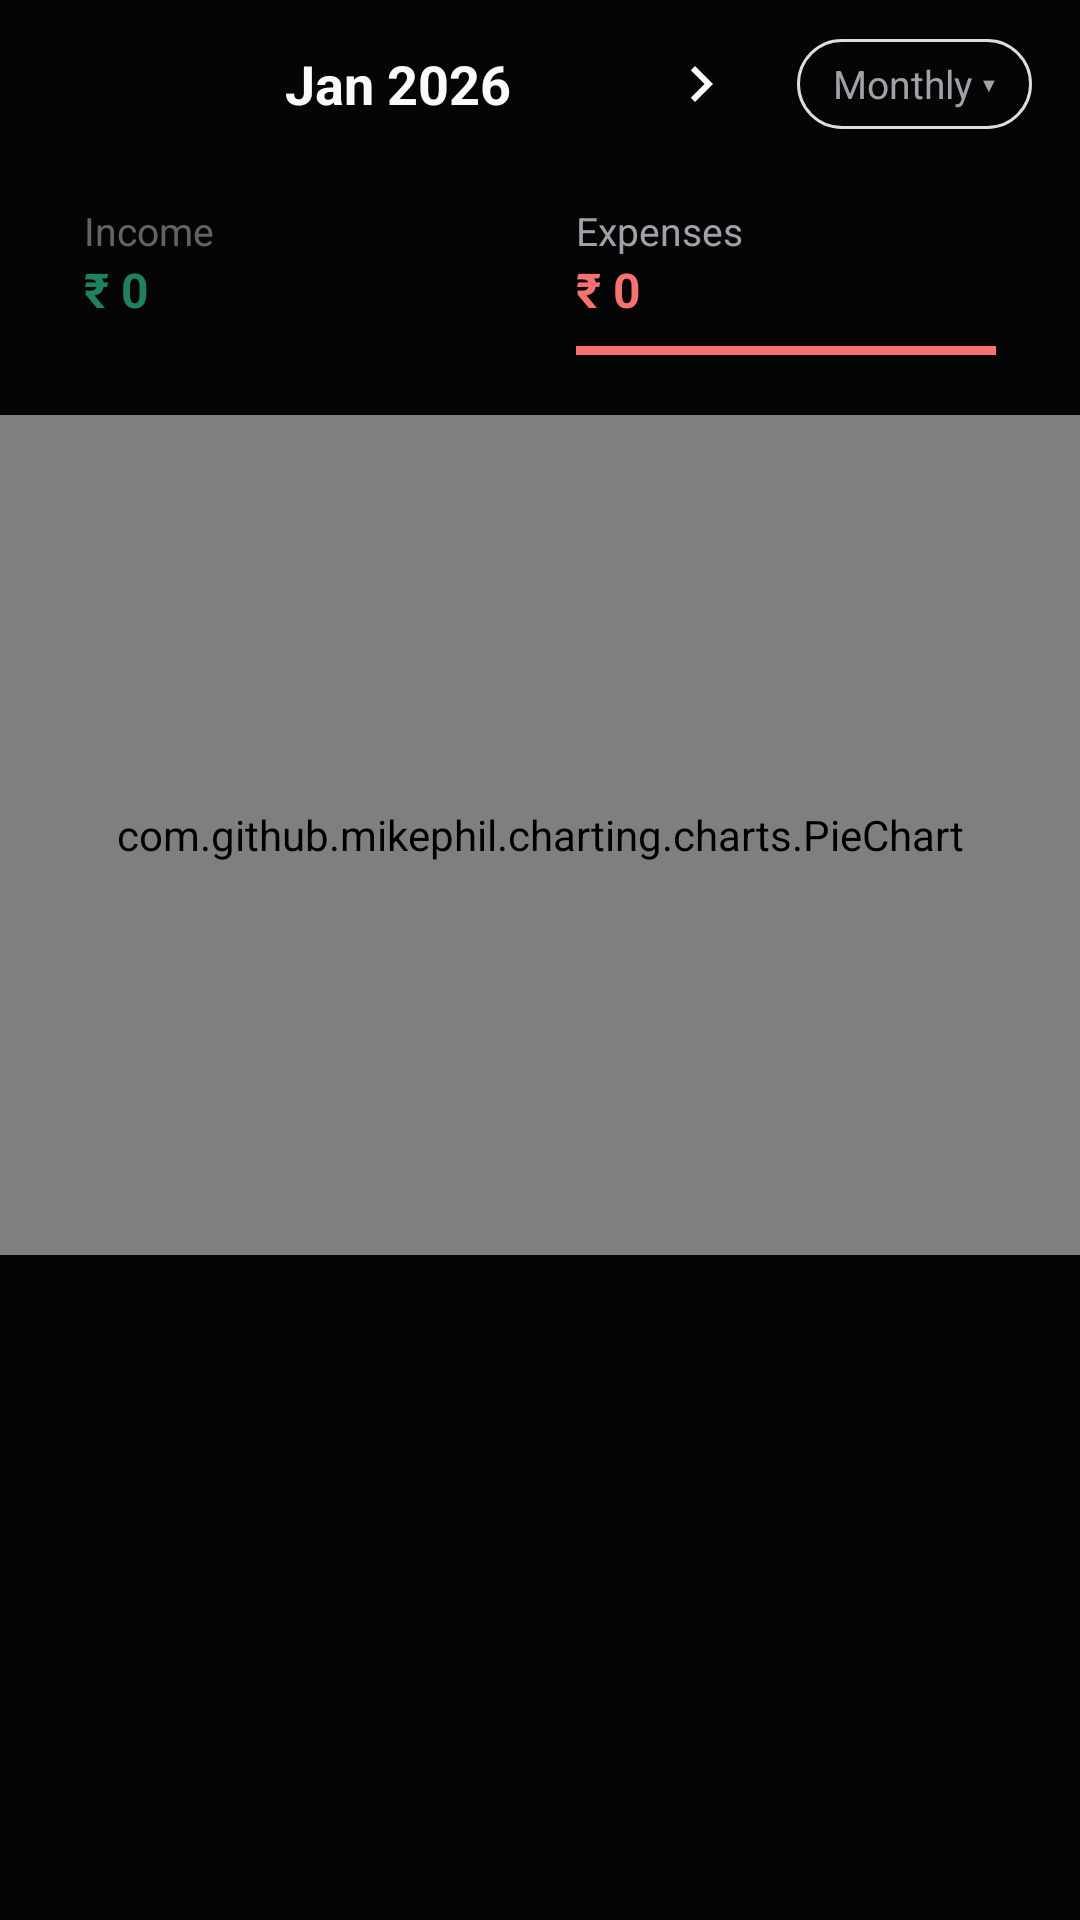

Where to tap for icons on this 1080x1920 app screen, as [x,y]:
Next Month: [702,84]
